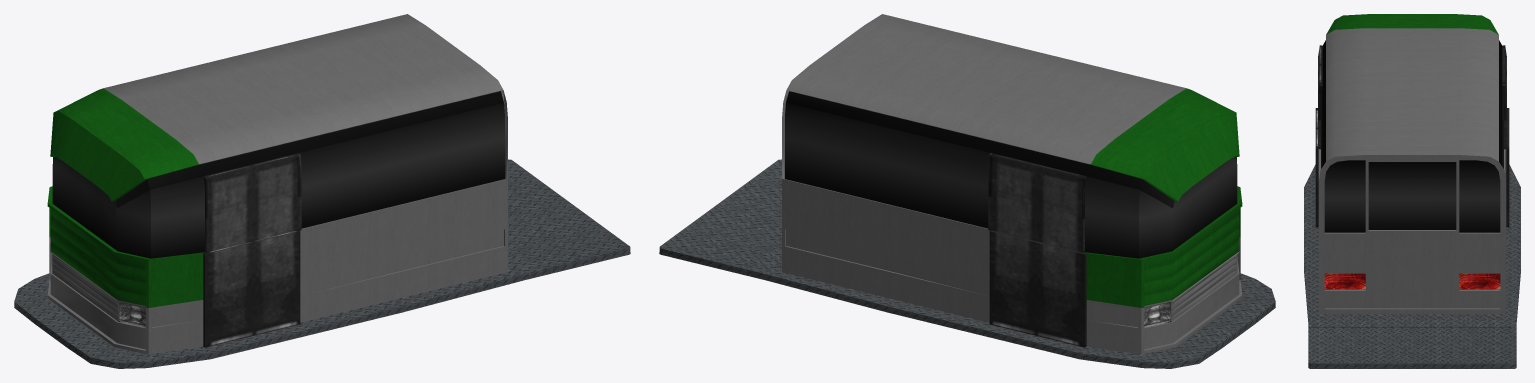
File: bus.FBX
The picture shows the model from 3 angles, left to right: view 1: azimuth 30°, elevation 25°; view 2: azimuth 150°, elevation 25°; view 3: azimuth 270°, elevation 25°; orthographic projection. The views are drawn at different scales.
Visible parts, largest first — view 1: bus; view 2: bus; view 3: bus.
Boxes of the visible parts, bbox=[...] form: bus: bbox=[14, 14, 630, 368]; bus: bbox=[659, 14, 1275, 368]; bus: bbox=[1304, 14, 1520, 368].
Size of the model in its own units: 87.33 by 36.98 by 31.01.
